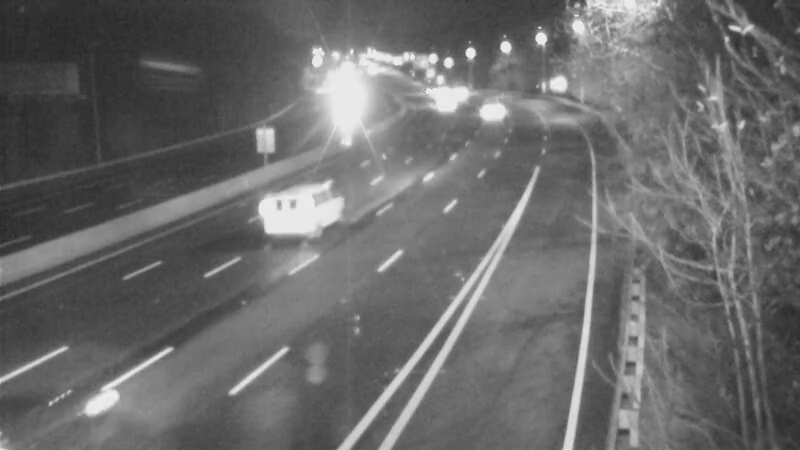vehicle: (1, 347, 108, 450), (254, 175, 334, 255), (405, 68, 455, 118), (438, 70, 488, 120), (421, 79, 471, 129), (463, 89, 513, 139)
